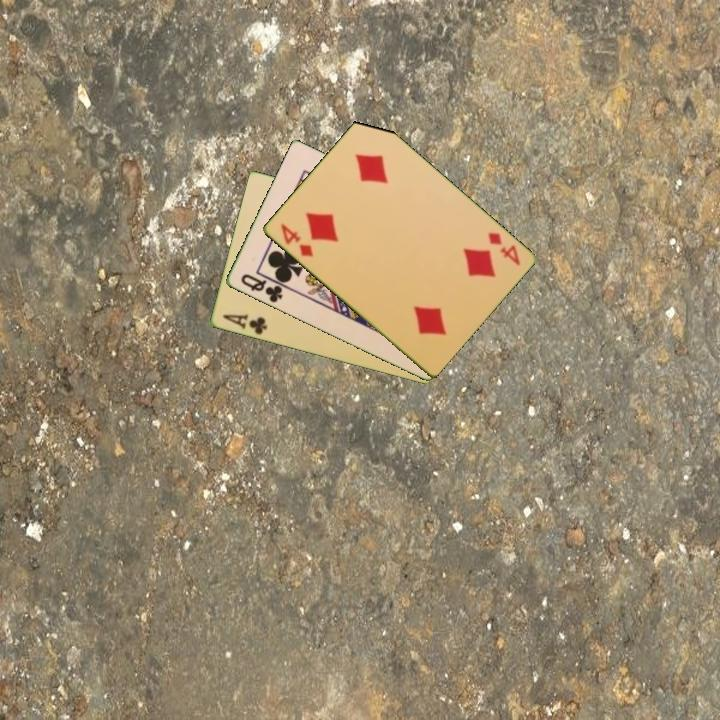4d: (276, 220, 316, 260), (484, 229, 523, 269)
Ac: (219, 311, 270, 338)
Qc: (237, 270, 286, 306)
